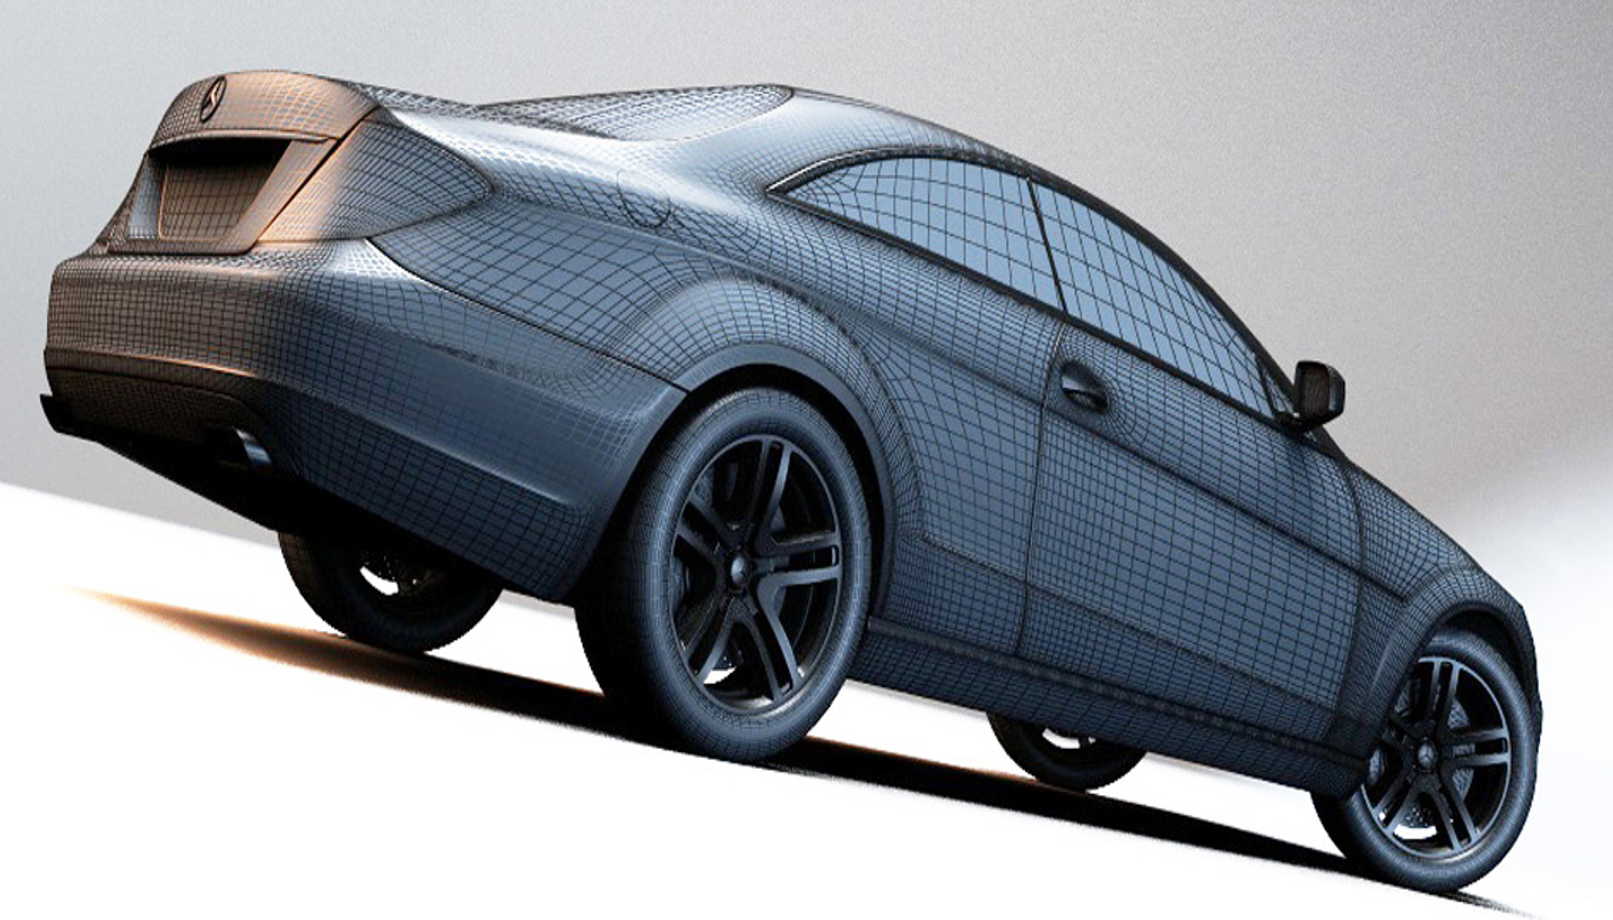hatch: (609, 162, 677, 237)
